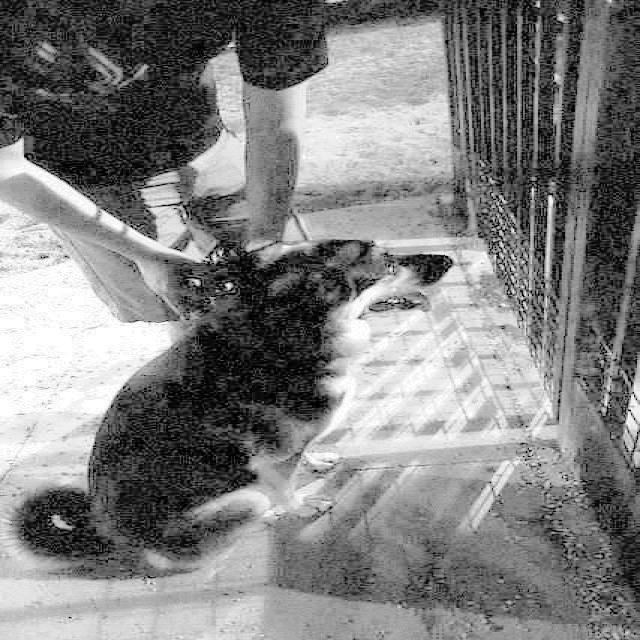Dog: (0, 233, 510, 578)
